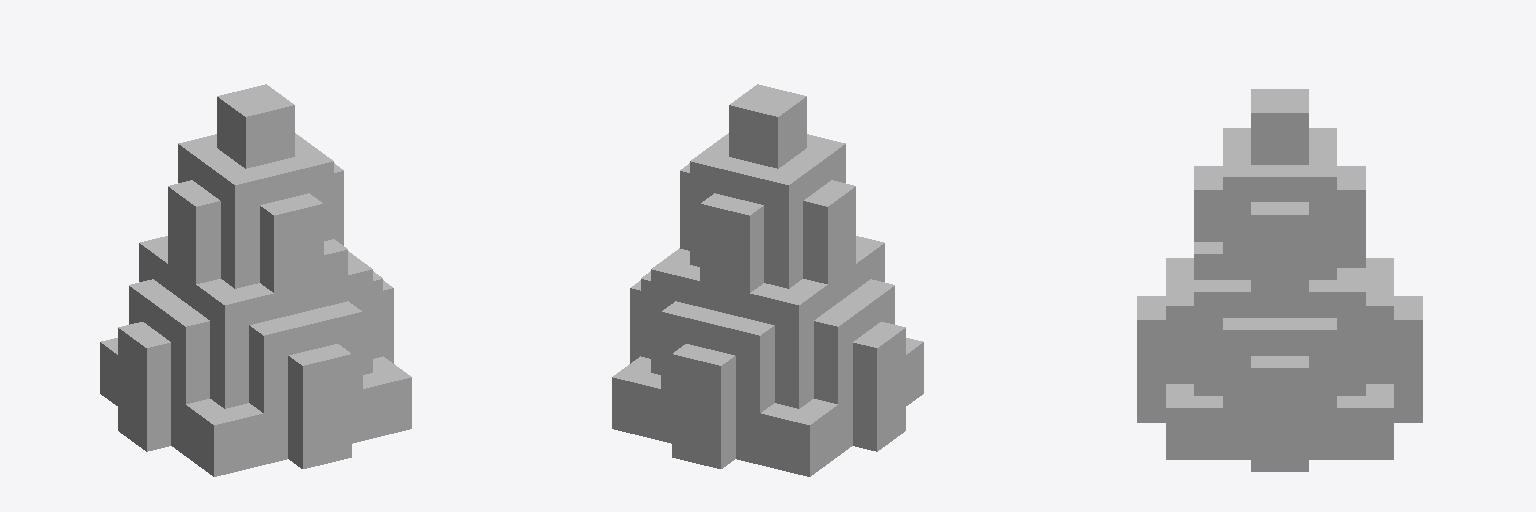
Rendered from Stones-0-Stone 2.obj.
3 renders of one model, left to right at view 1: azimuth 30°, elevation 25°; view 2: azimuth 150°, elevation 25°; view 3: azimuth 270°, elevation 25°, orthographic.
Visible parts, largest first — view 1: Stone 2; view 2: Stone 2; view 3: Stone 2.
Boxes of the visible parts, box(x1,y1,x2,y2) form: Stone 2: box(100, 84, 411, 476); Stone 2: box(612, 84, 923, 476); Stone 2: box(1137, 89, 1422, 471).
Bounding box in the file's own units: 1 × 1.2 × 1.